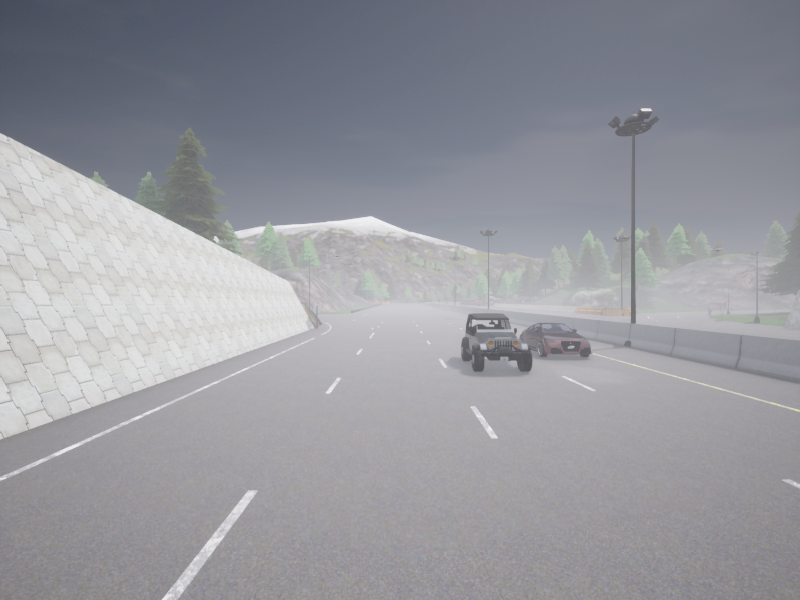vehicle: (461, 313, 532, 371), (519, 322, 591, 356), (445, 301, 447, 303)
